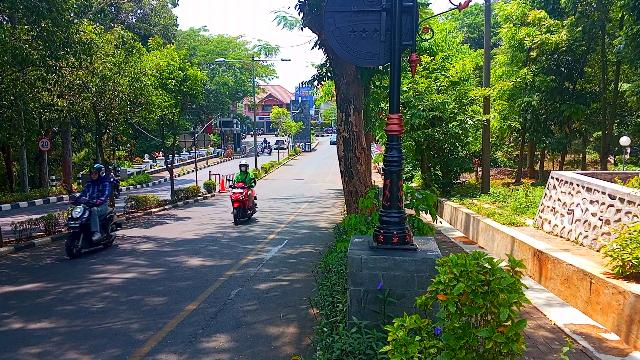helm: (90, 165, 106, 181), (240, 162, 250, 173)
motor: (66, 198, 123, 258), (227, 185, 259, 225)
